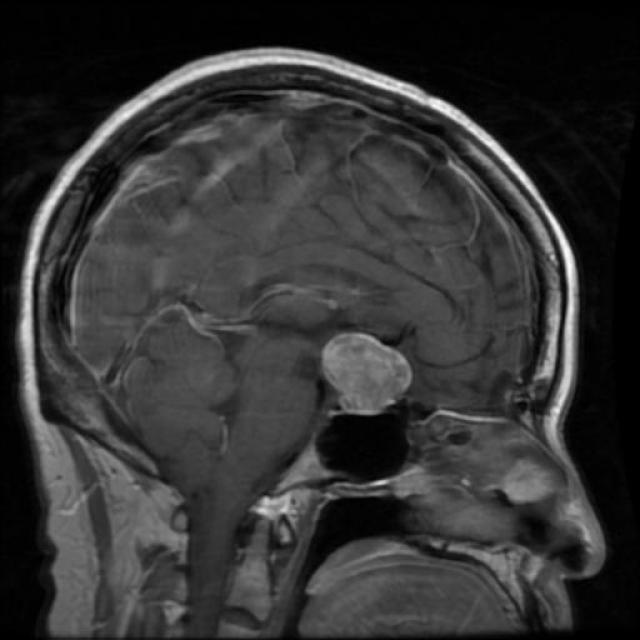pituitary: (303, 330, 422, 426)
